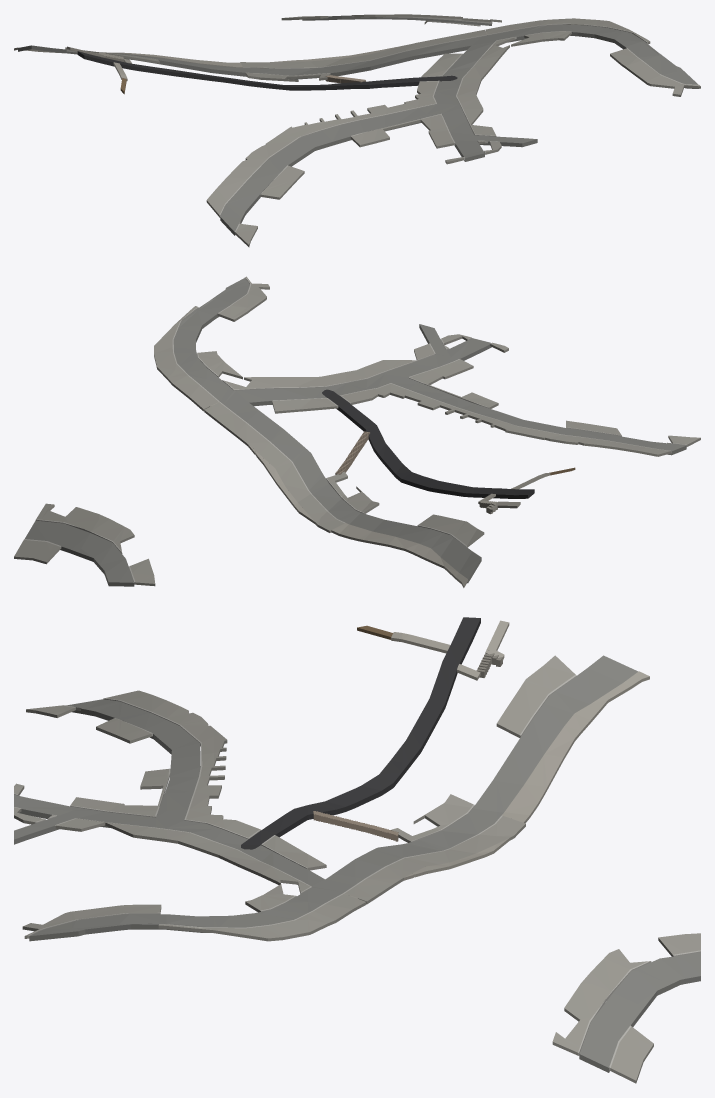
3 renders of one model, top to bottom at view 1: azimuth 30°, elevation 25°; view 2: azimuth 150°, elevation 25°; view 3: azimuth 270°, elevation 25°, orthographic. The views are drawn at different scales.
Size of the model in its own units: 147 by 40.82 by 146.
